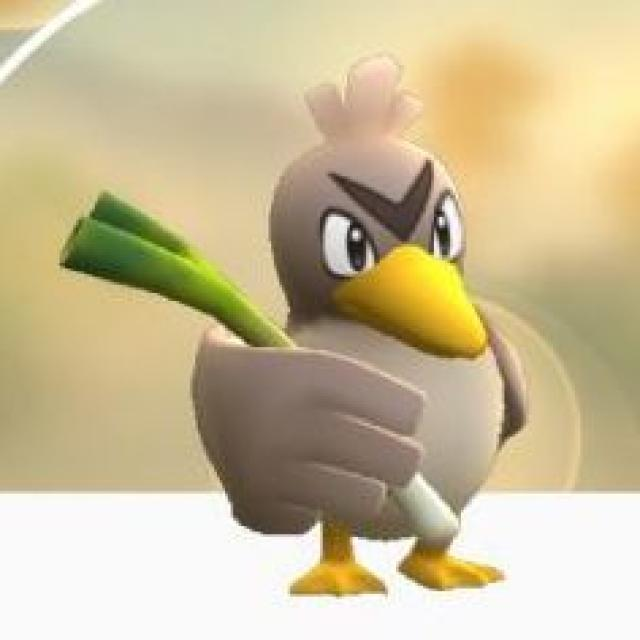Farfetchd: (154, 53, 526, 599)
